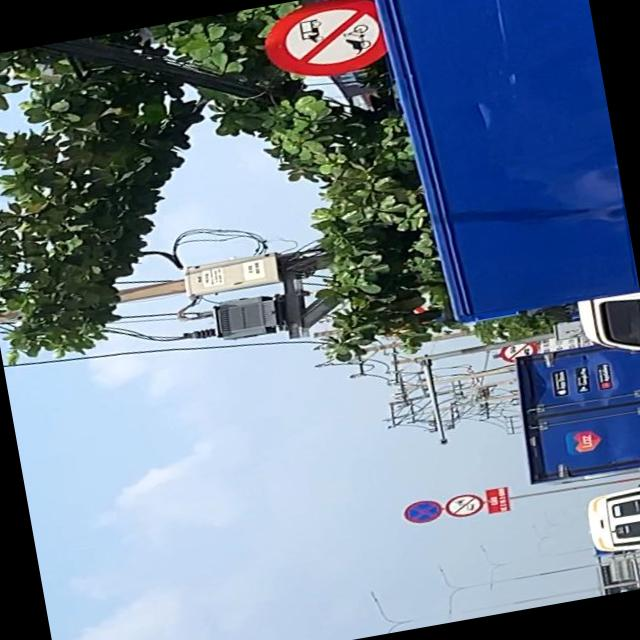P-130: (400, 496, 444, 526)
